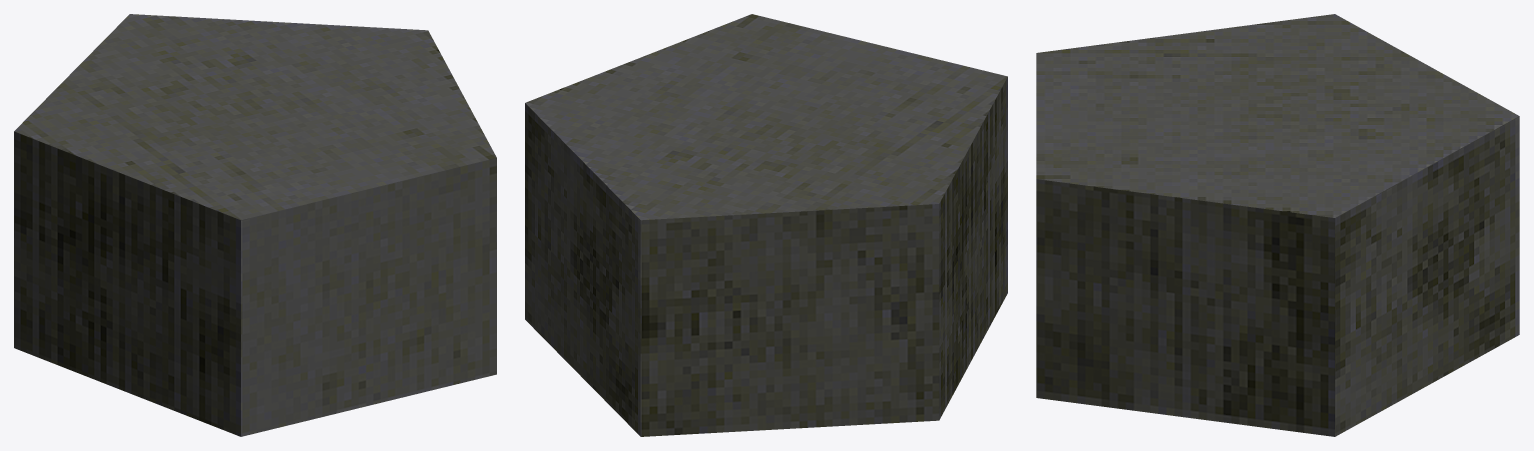
File: SM_SinkHandle.fbx
3 renders of one model, left to right at view 1: azimuth 30°, elevation 25°; view 2: azimuth 150°, elevation 25°; view 3: azimuth 270°, elevation 25°, orthographic.
Visible parts, largest first — view 1: SM_SinkHandle; view 2: SM_SinkHandle; view 3: SM_SinkHandle.
Boxes of the visible parts, x1,y1,x2,y2 form: SM_SinkHandle: (14,14,496,436); SM_SinkHandle: (525,14,1007,436); SM_SinkHandle: (1036,14,1519,436).
Size of the model in its own units: 10 by 5 by 10.
